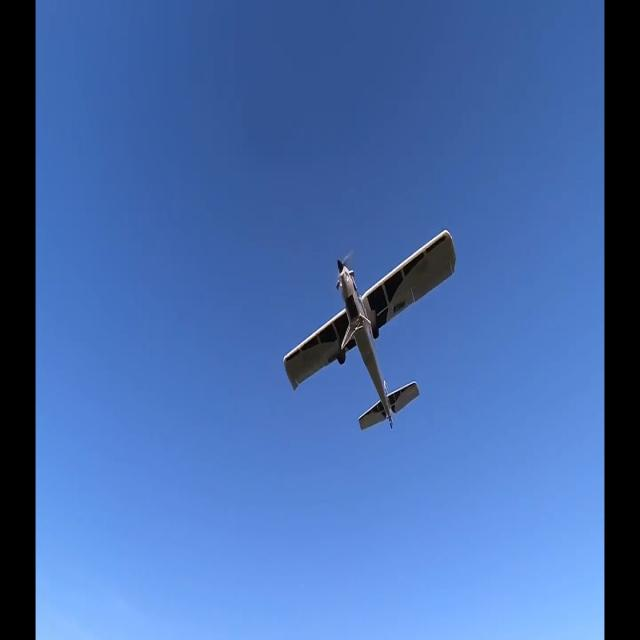iha: (282, 220, 458, 429)
